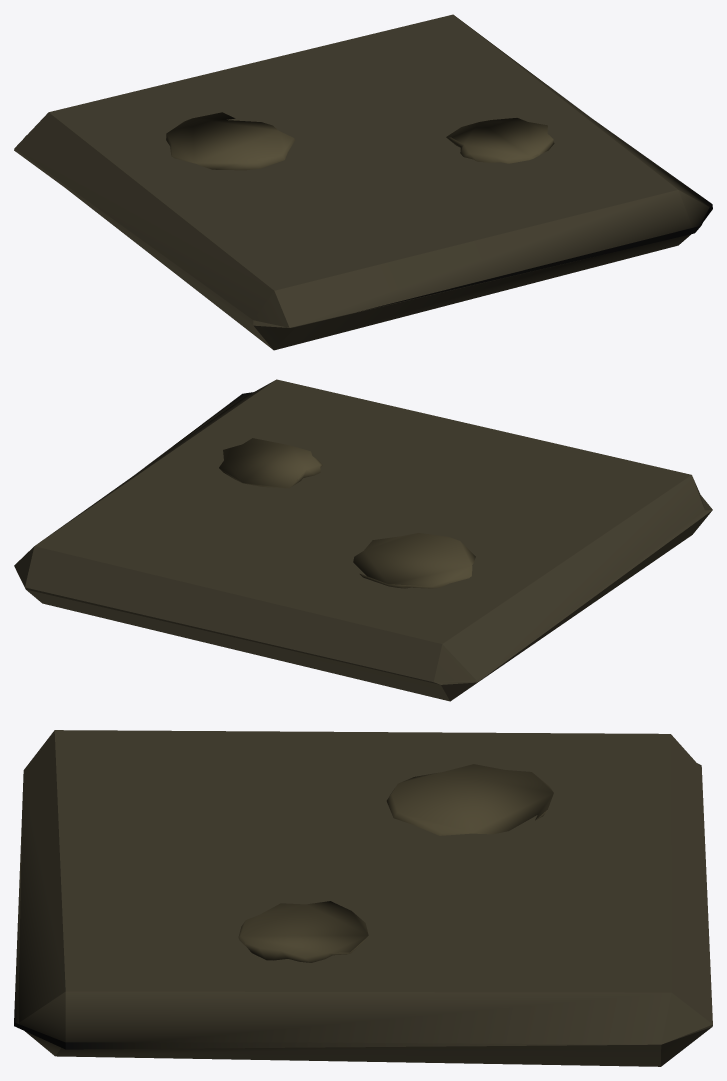
Rendered from floor_region2_v1.glb.
3 views of the same model, one above another, from view 1: azimuth 30°, elevation 25°; view 2: azimuth 150°, elevation 25°; view 3: azimuth 270°, elevation 25° (orthographic). The views are drawn at different scales.
Visible parts, largest first — view 1: floor_region2_v1; view 2: floor_region2_v1; view 3: floor_region2_v1.
Part boxes in pixels (box(x1,y1,x2,y2)): floor_region2_v1: box(14, 14, 712, 350); floor_region2_v1: box(14, 379, 712, 701); floor_region2_v1: box(14, 730, 712, 1066).
Bounding box in the file's own units: 1.02 × 0.1385 × 1.02.
